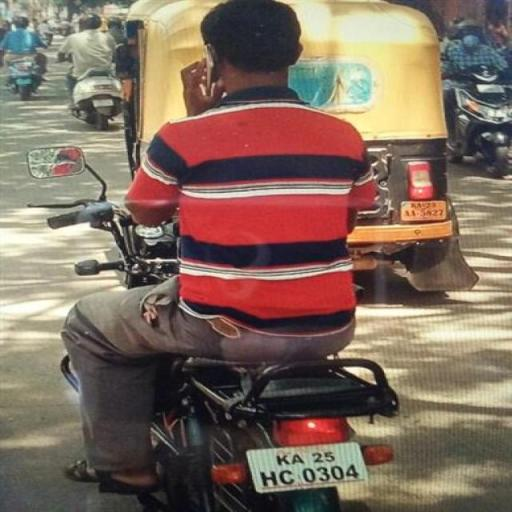numberplate: (254, 441, 370, 490)
using mobile: (178, 46, 232, 113)
